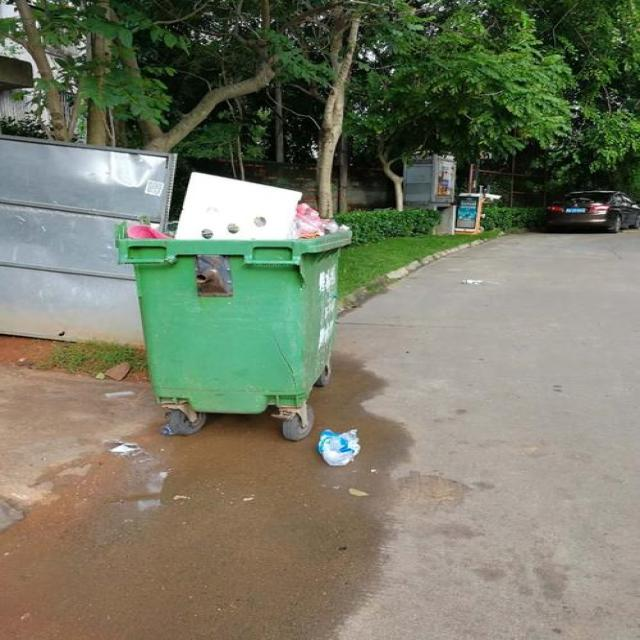garbage: (316, 428, 358, 465)
overflow: (116, 170, 350, 413)
